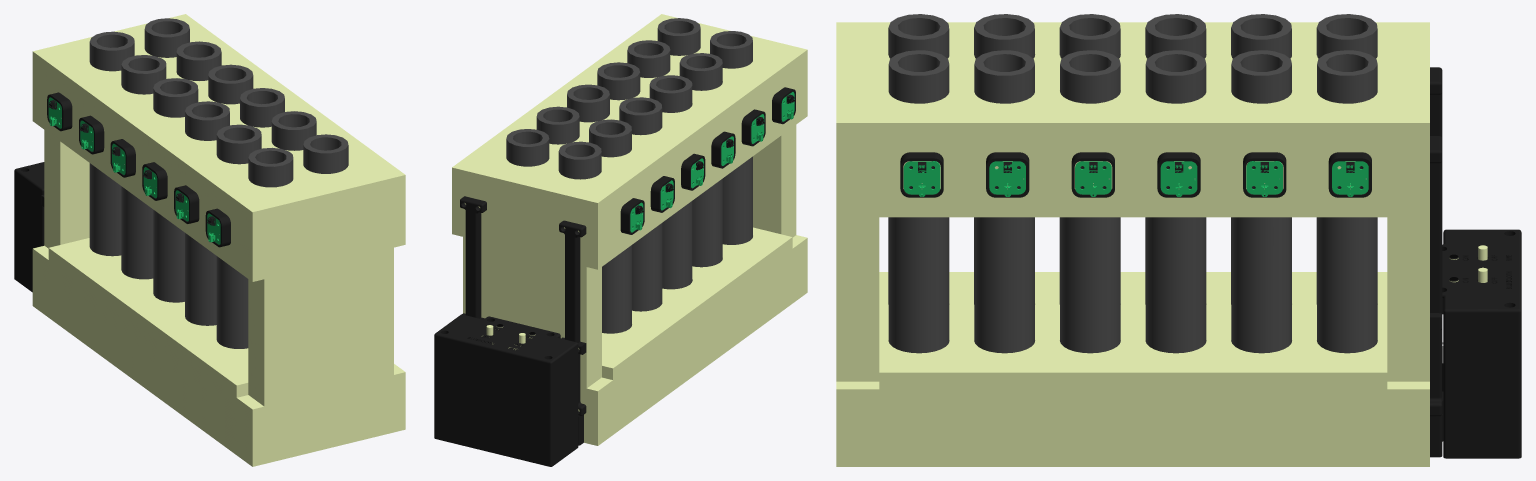
The model's file is FireworksMortarRack.fbx.
3 views of the same model, side by side, from view 1: azimuth 30°, elevation 25°; view 2: azimuth 150°, elevation 25°; view 3: azimuth 270°, elevation 25° (orthographic). The views are drawn at different scales.
Visible parts, largest first — view 1: unfinished pine 2d, dark grey low gloss plastic, unfinished pine 2d-2, black low gloss plastic, color-3; view 2: unfinished pine 2d, dark grey low gloss plastic, black low gloss plastic, unfinished pine 2d-2, color-3; view 3: unfinished pine 2d, dark grey low gloss plastic, black low gloss plastic, color-3.
Part boxes in pixels (x1=…): unfinished pine 2d: x1=32, y1=14, x2=405, y2=463; dark grey low gloss plastic: x1=89, y1=18, x2=348, y2=348; unfinished pine 2d-2: x1=32, y1=245, x2=264, y2=466; black low gloss plastic: x1=14, y1=92, x2=230, y2=292; color-3: x1=48, y1=97, x2=220, y2=244; unfinished pine 2d: x1=452, y1=14, x2=807, y2=443; dark grey low gloss plastic: x1=506, y1=18, x2=752, y2=333; black low gloss plastic: x1=434, y1=87, x2=795, y2=466; unfinished pine 2d-2: x1=486, y1=235, x2=807, y2=445; color-3: x1=630, y1=92, x2=794, y2=232; unfinished pine 2d: x1=836, y1=22, x2=1429, y2=466; dark grey low gloss plastic: x1=888, y1=14, x2=1377, y2=353; black low gloss plastic: x1=900, y1=67, x2=1521, y2=458; color-3: x1=903, y1=161, x2=1368, y2=196.
Bounding box in the file's own units: 29.72 × 42.69 × 71.1.
